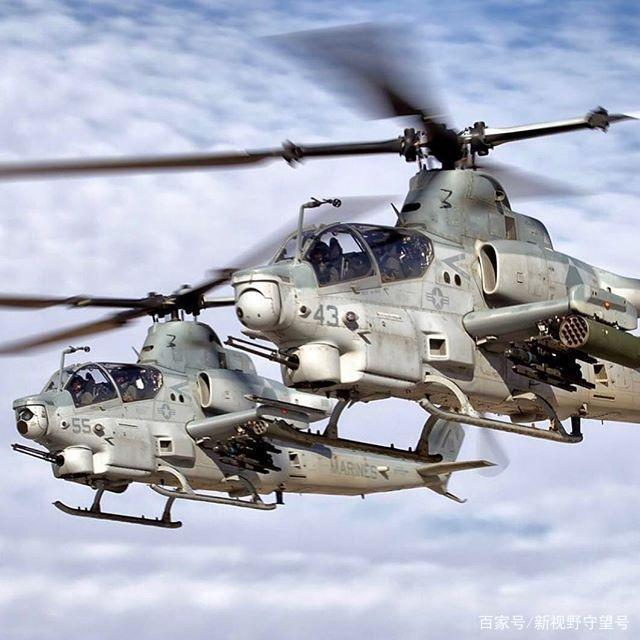MIL_HELO: (0, 36, 640, 444), (0, 272, 487, 529)
